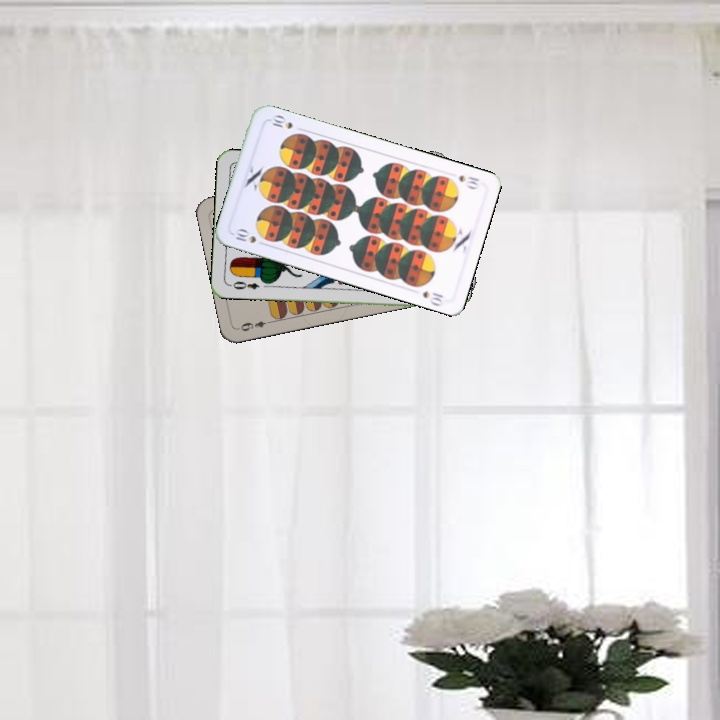E9: (235, 317, 275, 334)
EO: (226, 277, 262, 292)
S10: (229, 225, 269, 248), (454, 171, 482, 192)
